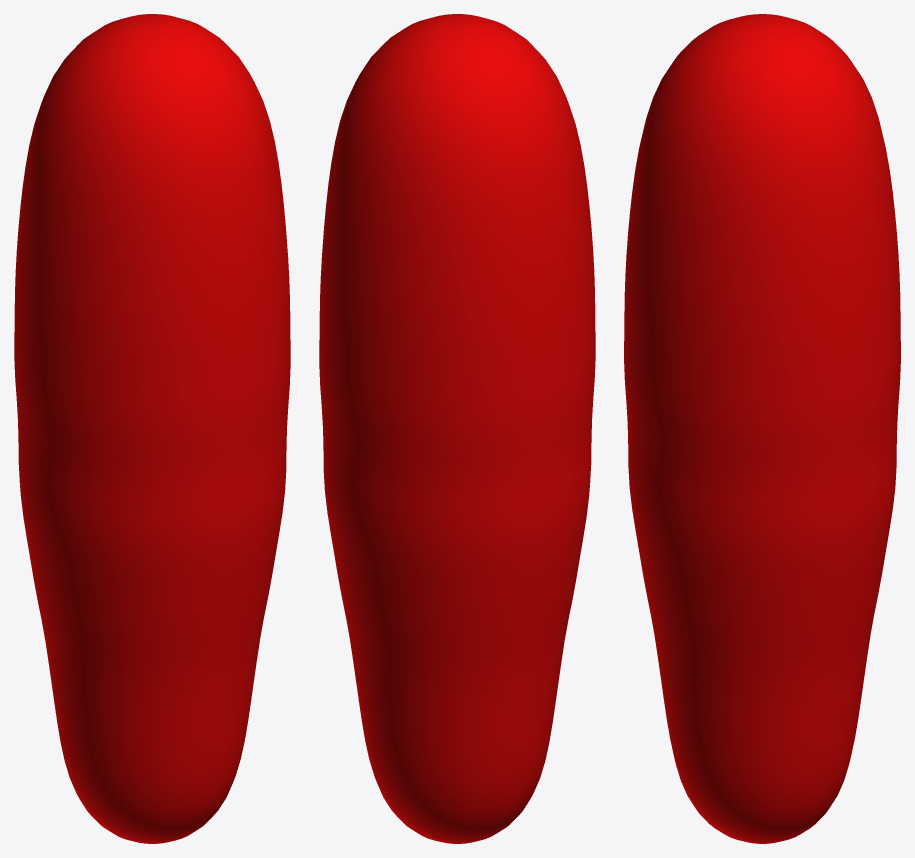
The model's file is ArmUpper.dae.
3 renders of one model, left to right at view 1: azimuth 30°, elevation 25°; view 2: azimuth 150°, elevation 25°; view 3: azimuth 270°, elevation 25°, orthographic.
Parts seen in each view (by area): view 1: ArmUpper; view 2: ArmUpper; view 3: ArmUpper.
Part boxes in pixels (x1=…): ArmUpper: x1=14, y1=14, x2=290, y2=843; ArmUpper: x1=319, y1=14, x2=595, y2=843; ArmUpper: x1=624, y1=14, x2=900, y2=843.
Size of the model in its own units: 0.0949 by 0.0949 by 0.3065.
